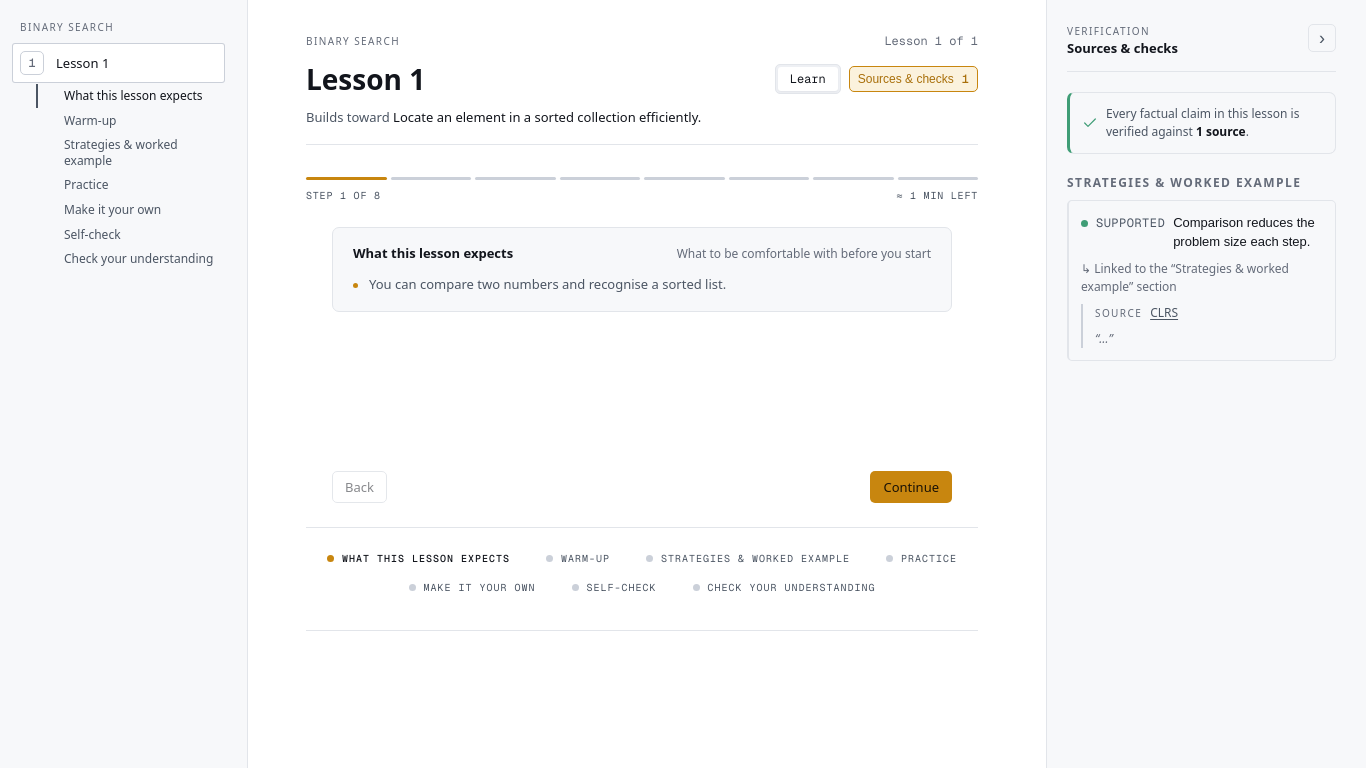
Test case: CourseReader — Learn mode › renders the resources step through LessonResources
What coordinates should you click on to do the following:
click the button "Continue"
I would click on:
 (911, 486)
Its box is [870, 470, 952, 502].
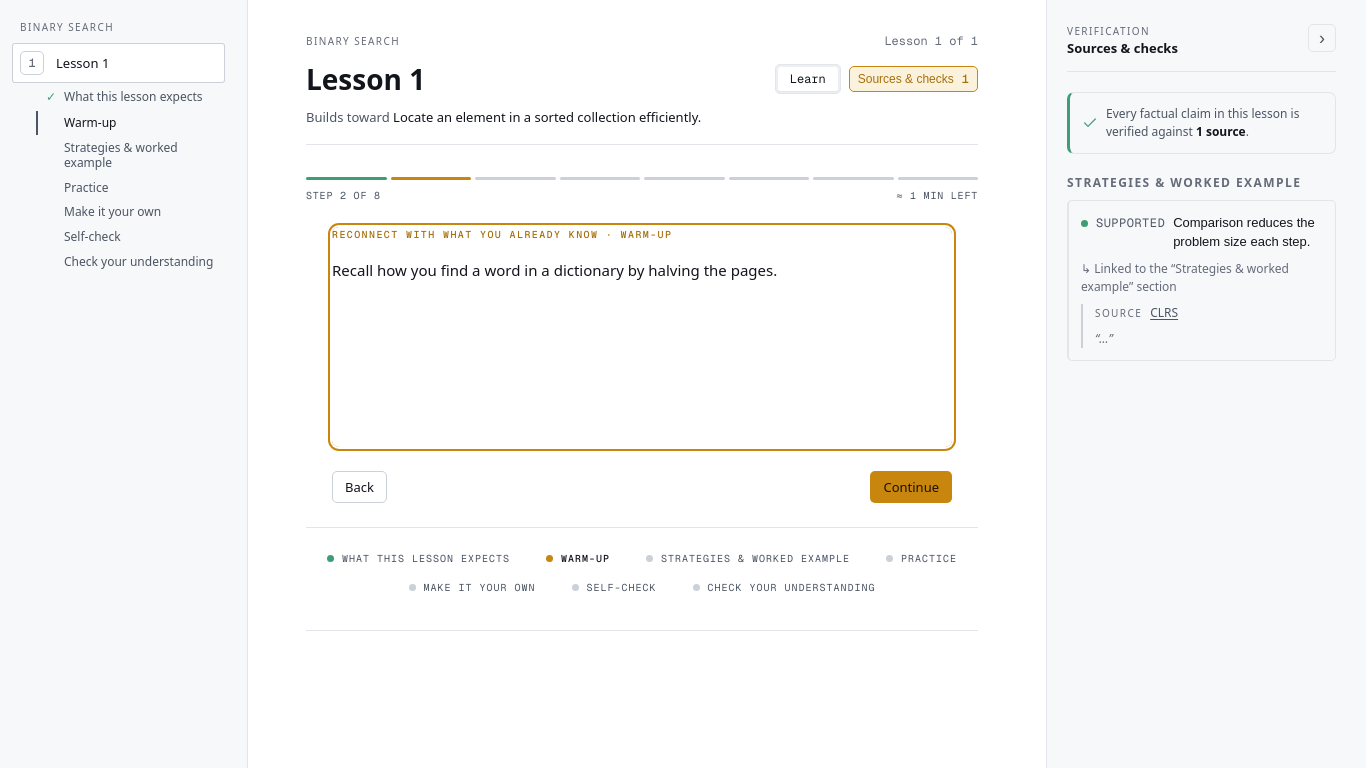
What coordinates should you click on to do the following:
click the button "Continue"
I would click on:
 (911, 486)
Its box is [870, 470, 952, 502].
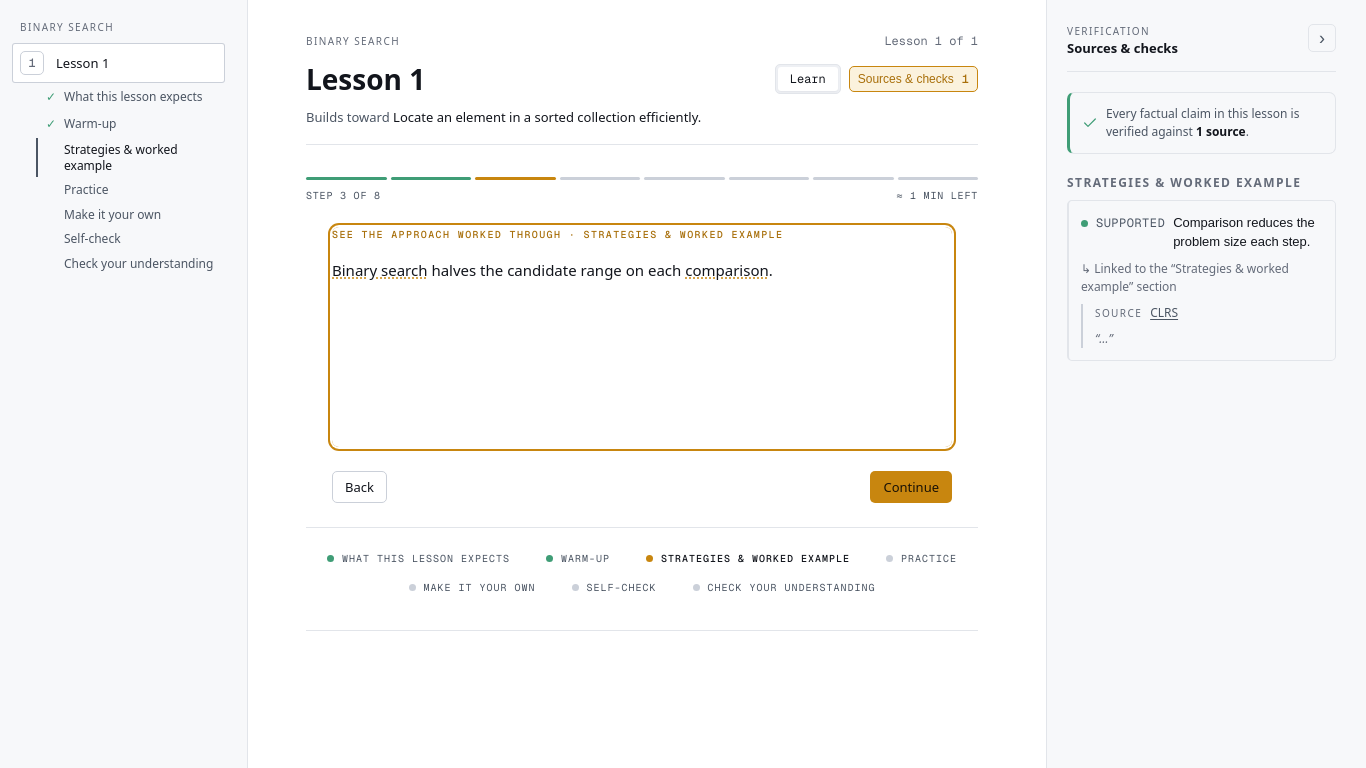
What coordinates should you click on to do the following:
click the button "Continue"
I would click on:
 (911, 486)
Its box is [870, 470, 952, 502].
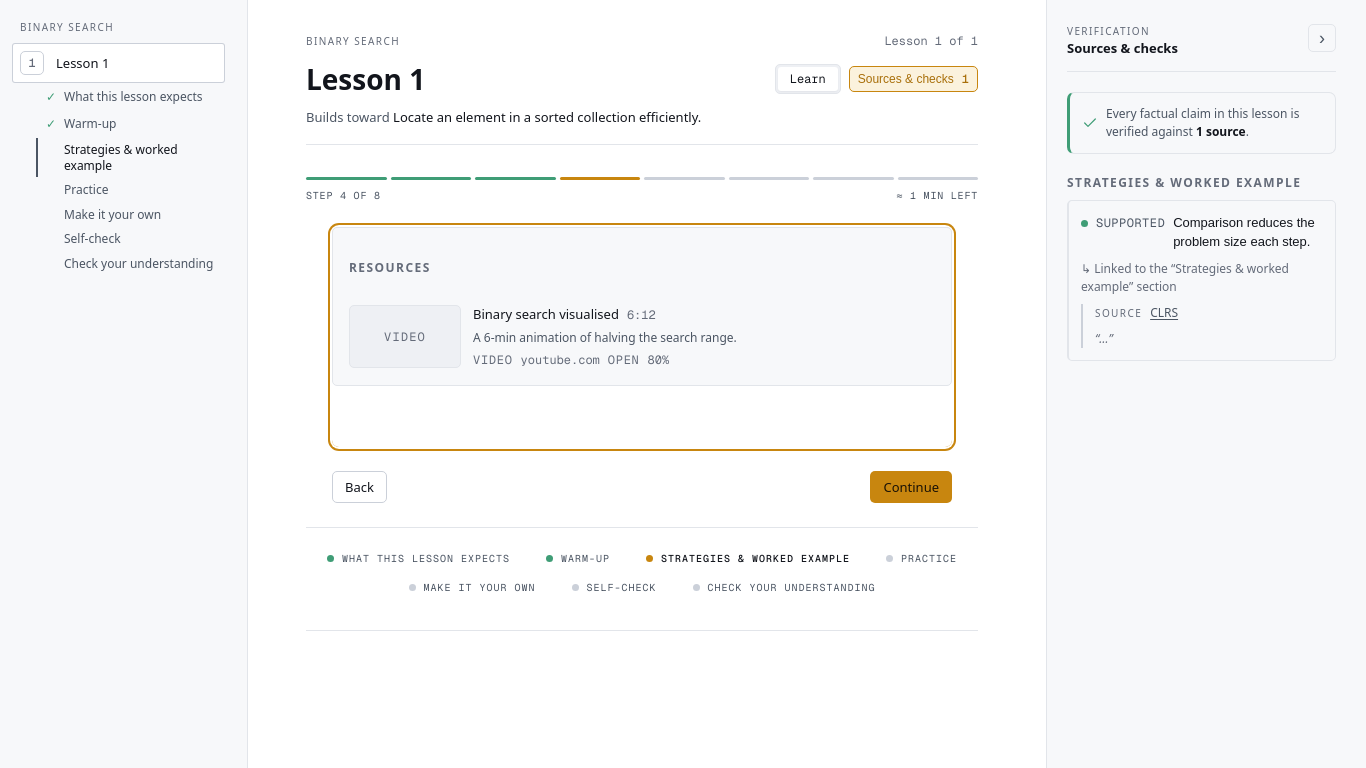
Now the link "Binary search visualised" is shown, box [473, 305, 619, 325]
